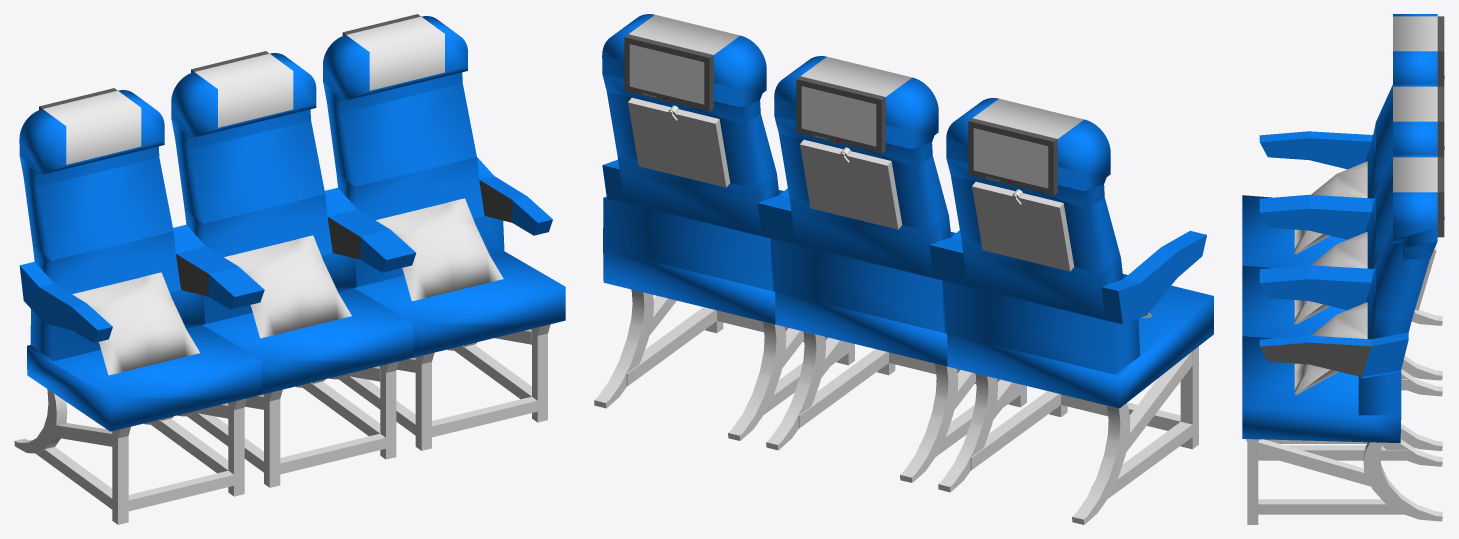
3 renders of one model, left to right at view 1: azimuth 30°, elevation 25°; view 2: azimuth 150°, elevation 25°; view 3: azimuth 270°, elevation 25°, orthographic. The views are drawn at different scales.
Visible parts, largest first — view 1: Group_014, Group_027, Group_004, Group_022, Group_035, Group_008, Group_025, Group_021, Group_010, Group_034, Group_039, Group_026 (+3 smaller); view 2: Group_014, Group_027, Group_004, Group_025, Group_039, Group_026, Group_003, Group_012, Group_032, Group_019, Group_038, Group_002 (+12 smaller); view 3: Group_004, Group_027, Group_014, Group_003, Group_008, Group_002, Group_035, Group_022, Group_034, Group_021, Group_010, Group_039 (+7 smaller).
Part boxes in pixels (x1,y1,x2,y2): Group_014: (19, 90, 261, 431); Group_027: (171, 53, 413, 394); Group_004: (323, 16, 565, 357); Group_022: (72, 272, 199, 375); Group_035: (224, 235, 351, 338); Group_008: (376, 198, 503, 301); Group_025: (14, 389, 181, 524); Group_021: (43, 90, 141, 164); Group_010: (346, 16, 444, 90); Group_034: (195, 53, 293, 127); Group_039: (295, 361, 398, 461); Group_026: (144, 398, 246, 498); Group_014: (942, 98, 1213, 408); Group_027: (770, 56, 961, 366); Group_004: (602, 14, 789, 324); Group_025: (1072, 346, 1198, 524); Group_039: (766, 331, 935, 450); Group_026: (938, 373, 1107, 492); Group_003: (594, 289, 763, 408); Group_012: (632, 106, 722, 183); Group_032: (804, 148, 894, 225); Group_019: (976, 190, 1066, 267); Group_038: (900, 363, 1026, 482); Group_002: (728, 321, 854, 440); Group_004: (1242, 155, 1437, 442); Group_027: (1242, 84, 1437, 338); Group_014: (1242, 14, 1437, 267); Group_003: (1246, 439, 1442, 524); Group_008: (1294, 302, 1367, 394); Group_002: (1258, 439, 1442, 466); Group_035: (1294, 231, 1367, 324); Group_022: (1294, 161, 1367, 253); Group_034: (1393, 86, 1437, 121); Group_021: (1393, 16, 1437, 51); Group_010: (1393, 157, 1437, 192); Group_039: (1264, 423, 1442, 450).
Size of the model in its own units: 58.54 by 41.09 by 23.51.
